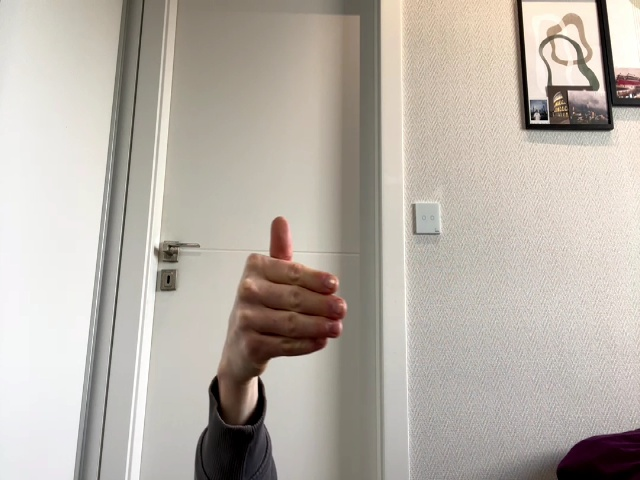M: (225, 217, 348, 377)
